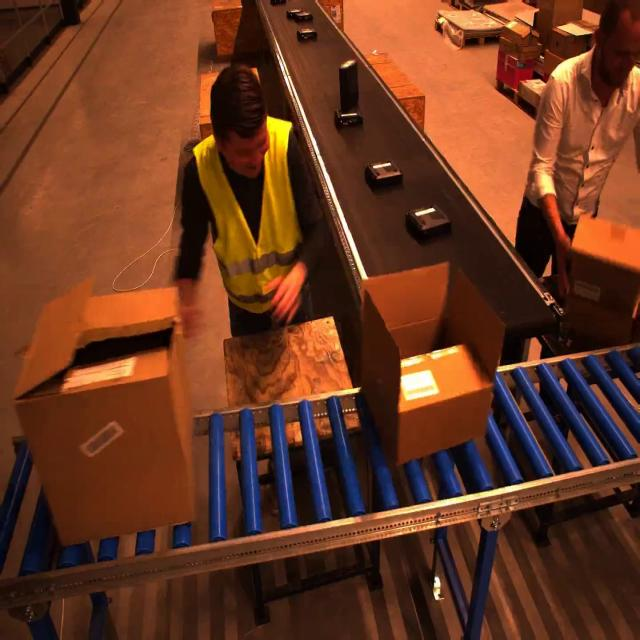box: (13, 282, 197, 542), (362, 264, 509, 458), (564, 211, 637, 339)
product: (405, 203, 450, 238), (337, 57, 363, 108), (364, 160, 402, 189), (338, 59, 358, 114), (555, 21, 595, 37), (334, 108, 363, 129), (286, 8, 312, 22), (296, 27, 317, 41), (270, 0, 286, 6)
